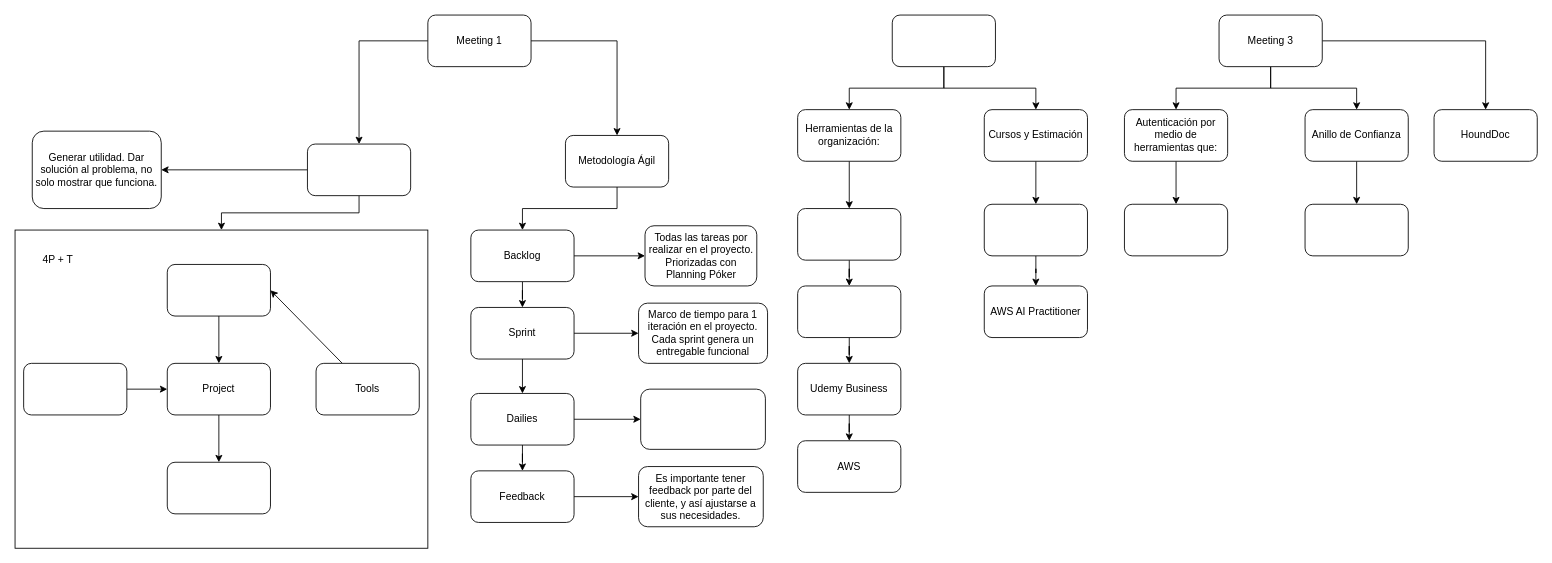
Image size: 1552x563. Some labels were removed from this diagram. Each missing label, with the centre of its shape:
"- Uno es - Uno tiene Uno sabe" belongs at (1176,229).
"AWS Cloud Practitioner" belongs at (1035,229).
"ClickUp" belongs at (849,311).
"IdP: Identity Provider" belongs at (1356,229).
"Meeting 2" belongs at (943,40).
"Modelo de Negocio" belongs at (359,169).
"OpenAir" belongs at (849,234).
"Personal" belongs at (75,388).
"Process" belongs at (218,290).
"Product" belongs at (218,487).
"Reunión interna del equipo para saber avances y tareas desarrolladas." belongs at (702,418).
